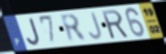6: (125, 6, 146, 38)
7: (37, 14, 57, 46)
J: (25, 17, 41, 47), (88, 11, 103, 41)
R: (100, 8, 131, 41), (58, 13, 89, 44)
